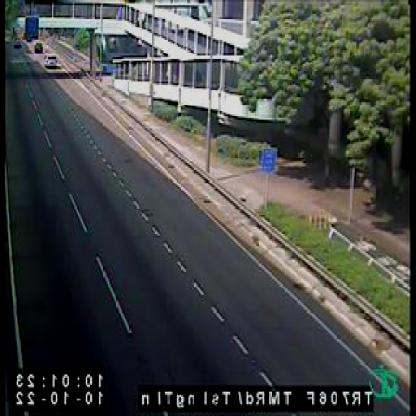Car: (46, 52, 58, 66), (35, 42, 43, 53)
